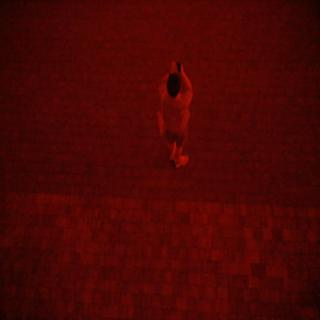person: (144, 54, 210, 180)
